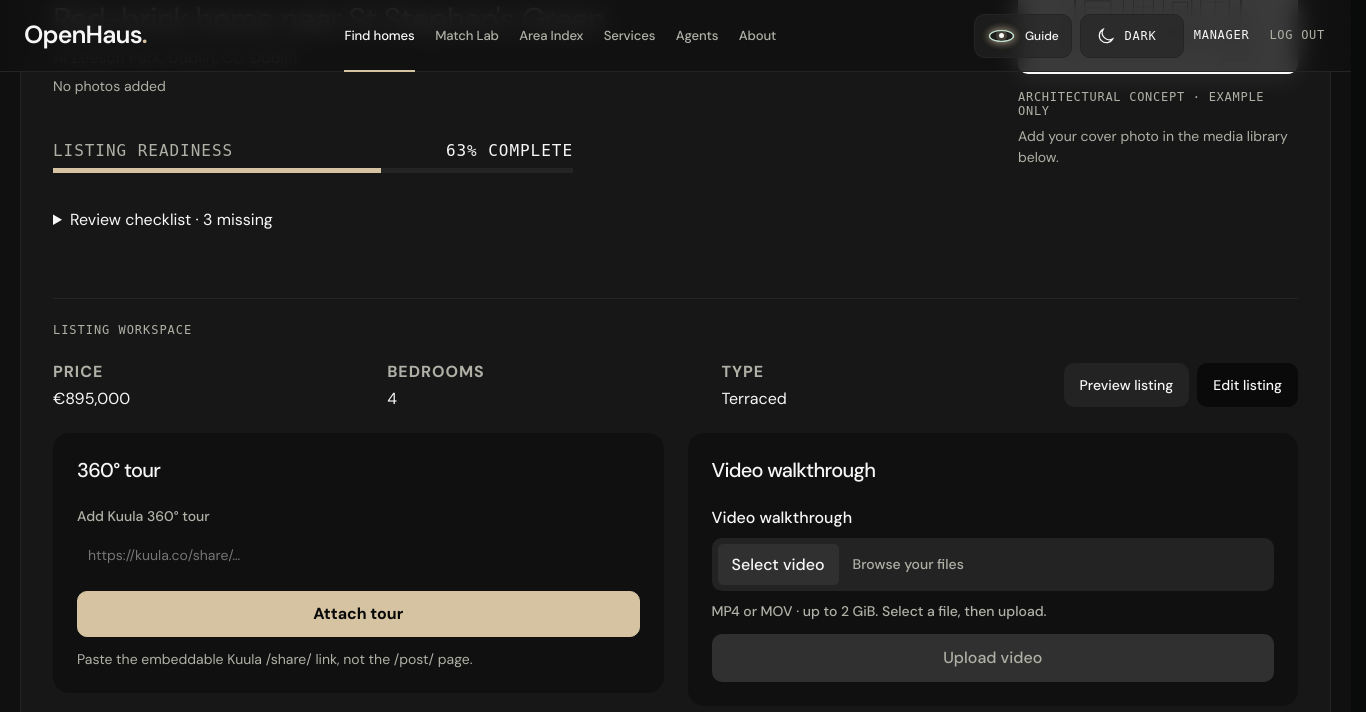
it: manager application › edits and publishes an existing listing
(page scrolled)
Click the button "Edit listing".
click(1248, 385)  # box left=1197, top=363, right=1298, bottom=407
(page scrolled)
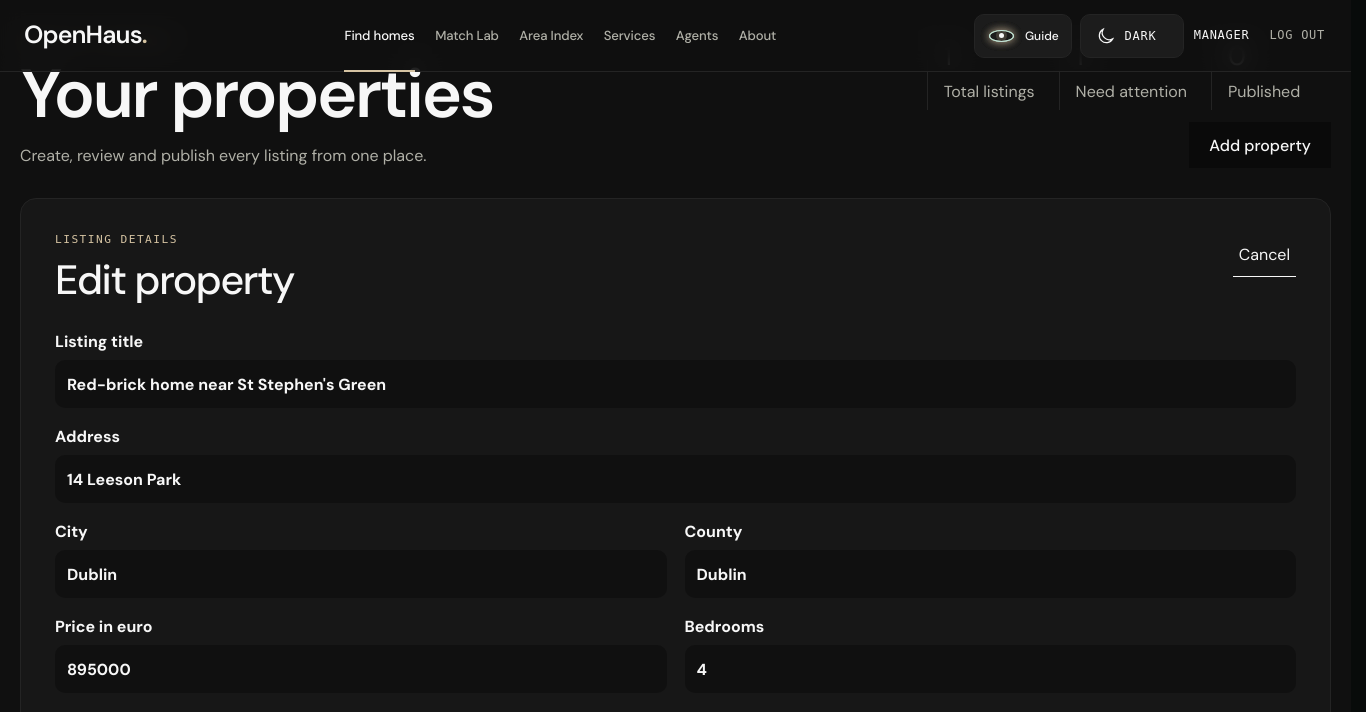
Replace the text in the field labelled "Listing title" with "Published city home" at (676,384), box left=55, top=360, right=1296, bottom=408
(page scrolled)
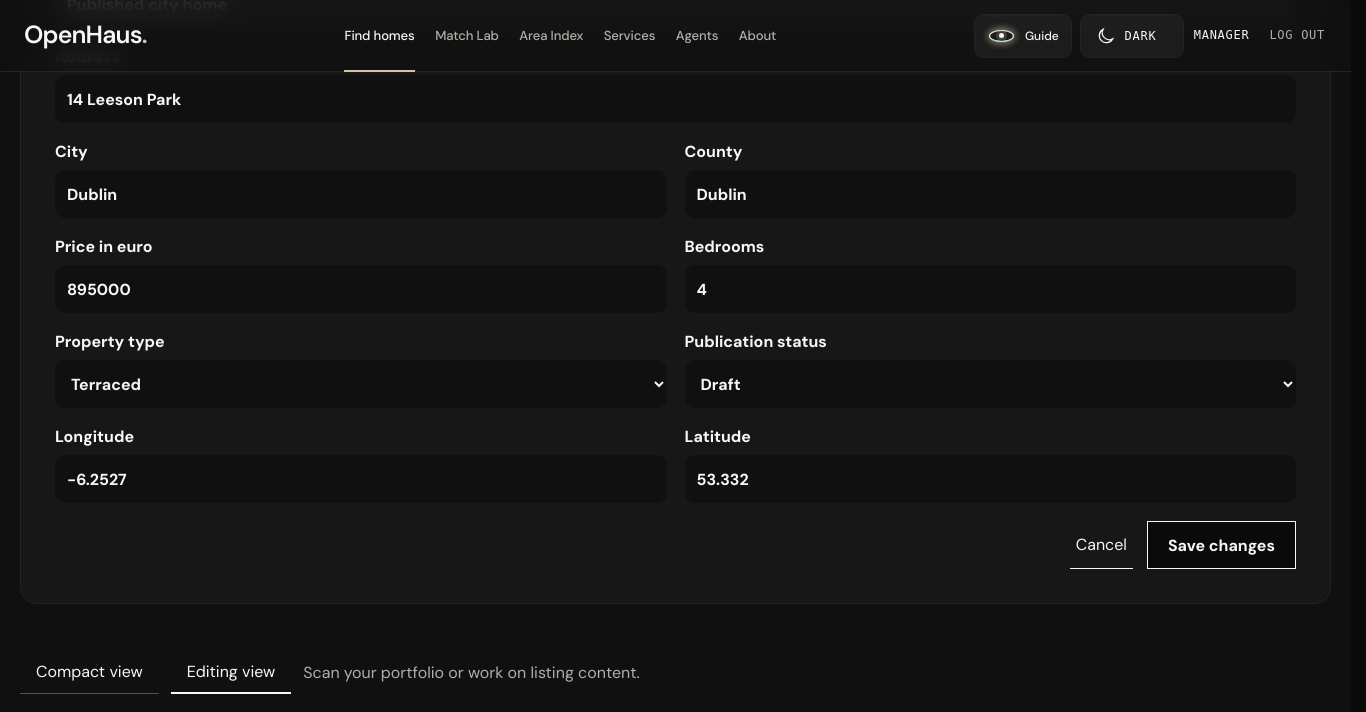
Select "Published" in the dropdown labelled "Publication status" at (990,384), box left=684, top=360, right=1296, bottom=408
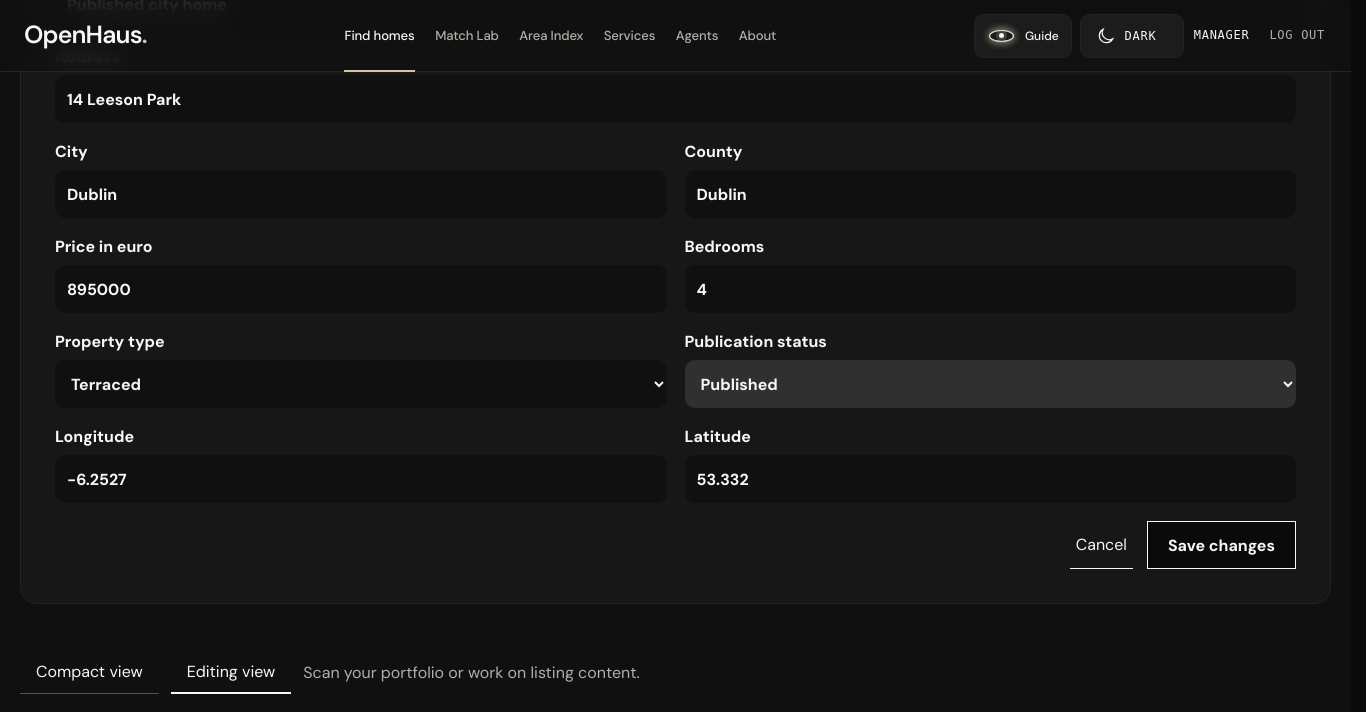
Click the button "Save changes".
click(1221, 545)  # box left=1147, top=521, right=1296, bottom=569
(page scrolled)
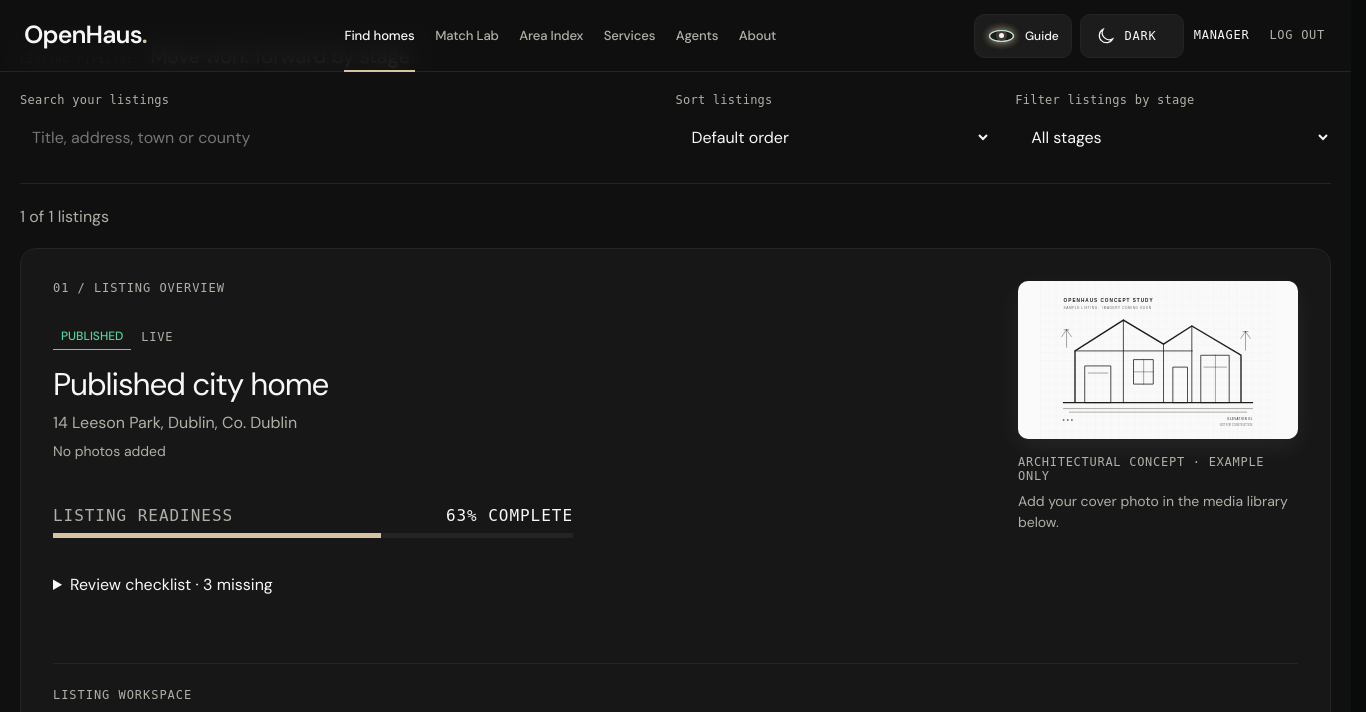
Now the heading "Published city home" is shown, box left=53, top=364, right=328, bottom=405
